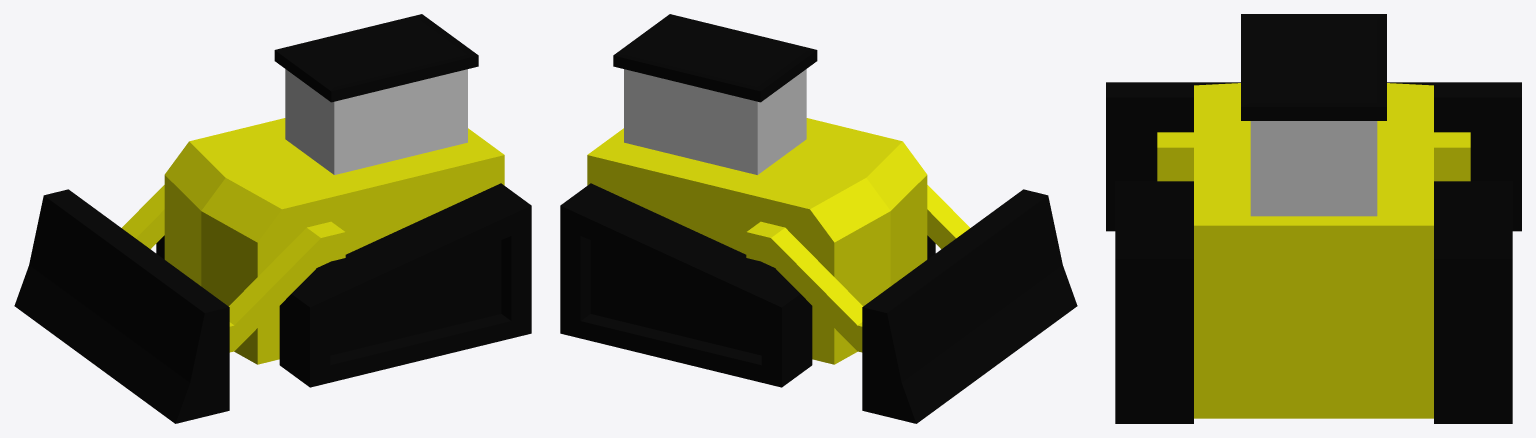
Rendered from Bulldozer01.fbx.
3 renders of one model, left to right at view 1: azimuth 30°, elevation 25°; view 2: azimuth 150°, elevation 25°; view 3: azimuth 270°, elevation 25°, orthographic. The views are drawn at different scales.
Parts seen in each view (by area): view 1: Bulldozer; view 2: Bulldozer; view 3: Bulldozer.
Part boxes in pixels (<box>): Bulldozer: <box>14,14,531,423</box>; Bulldozer: <box>560,14,1077,423</box>; Bulldozer: <box>1106,14,1521,423</box>.
Bounding box in the file's own units: 1134 × 871 × 726.
